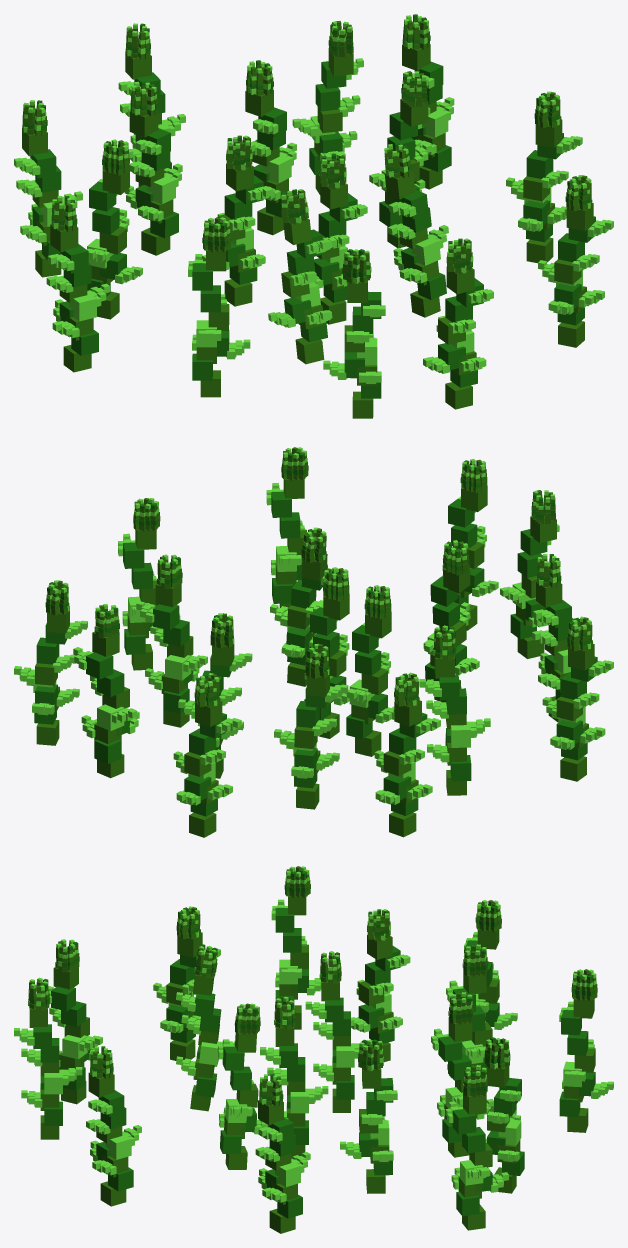
The model's file is flowering_wheat.gltf.
The picture shows the model from 3 angles, top to bottom: view 1: azimuth 30°, elevation 25°; view 2: azimuth 150°, elevation 25°; view 3: azimuth 270°, elevation 25°; orthographic projection. The views are drawn at different scales.
Parts seen in each view (by area): view 1: Cube.001, Cube.006, Cube.005, Cube.015, Cube.014, Cube.010, Cube.013, Cube.008, Cube.007, Cube.009, Cube.016, Cube.011 (+6 smaller); view 2: Cube.017, Cube.002, Cube.004, Cube.003, Cube.016, Cube.006, Cube.005, Cube.007, Cube.012, Cube.009, Cube.013, Cube.001 (+6 smaller); view 3: Cube.014, Cube.013, Cube.012, Cube.003, Cube.001, Cube.015, Cube.007, Cube.009, Cube.002, Cube.010, Cube.016, Cube.017 (+6 smaller).
Part boxes in pixels (bbox=[...]): Cube.001: bbox=[384, 143, 448, 317]; Cube.006: bbox=[46, 195, 109, 372]; Cube.005: bbox=[124, 80, 182, 255]; Cube.015: bbox=[423, 238, 493, 409]; Cube.014: bbox=[538, 175, 613, 347]; Cube.010: bbox=[268, 189, 332, 364]; Cube.013: bbox=[506, 91, 582, 263]; Cube.008: bbox=[188, 217, 250, 397]; Cube.007: bbox=[87, 139, 142, 319]; Cube.009: bbox=[323, 249, 385, 418]; Cube.016: bbox=[202, 135, 273, 306]; Cube.011: bbox=[245, 60, 296, 235]; Cube.017: bbox=[73, 604, 139, 778]; Cube.002: bbox=[136, 554, 207, 727]; Cube.004: bbox=[374, 672, 440, 837]; Cube.003: bbox=[173, 673, 241, 837]; Cube.016: bbox=[346, 585, 394, 756]; Cube.006: bbox=[542, 616, 613, 781]; Cube.005: bbox=[274, 643, 348, 809]; Cube.007: bbox=[419, 625, 490, 795]; Cube.012: bbox=[14, 580, 87, 745]; Cube.009: bbox=[500, 490, 560, 658]; Cube.013: bbox=[118, 498, 180, 670]; Cube.001: bbox=[270, 527, 338, 686]; Cube.014: bbox=[86, 1046, 141, 1206]; Cube.013: bbox=[255, 1073, 310, 1233]; Cube.012: bbox=[445, 1065, 508, 1230]; Cube.003: bbox=[559, 969, 613, 1132]; Cube.001: bbox=[217, 1003, 268, 1169]; Cube.015: bbox=[14, 977, 82, 1139]; Cube.007: bbox=[351, 909, 410, 1062]; Cube.009: bbox=[36, 939, 102, 1104]; Cube.002: bbox=[340, 1039, 397, 1193]; Cube.010: bbox=[176, 946, 234, 1111]; Cube.016: bbox=[305, 951, 372, 1112]; Cube.017: bbox=[484, 1037, 524, 1193].
Size of the model in its own units: 1.48 by 0.4976 by 1.62.
